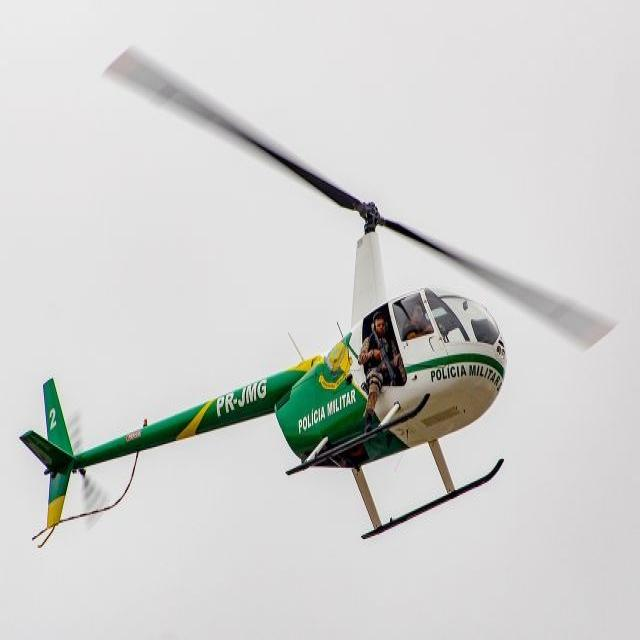CIV_HELO: (20, 200, 511, 550)
